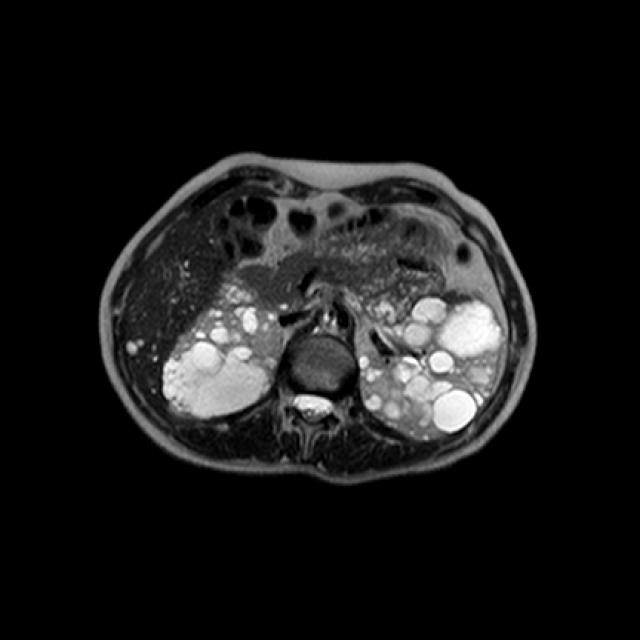sag: (162, 264, 282, 420)
sol: (358, 294, 502, 441)
